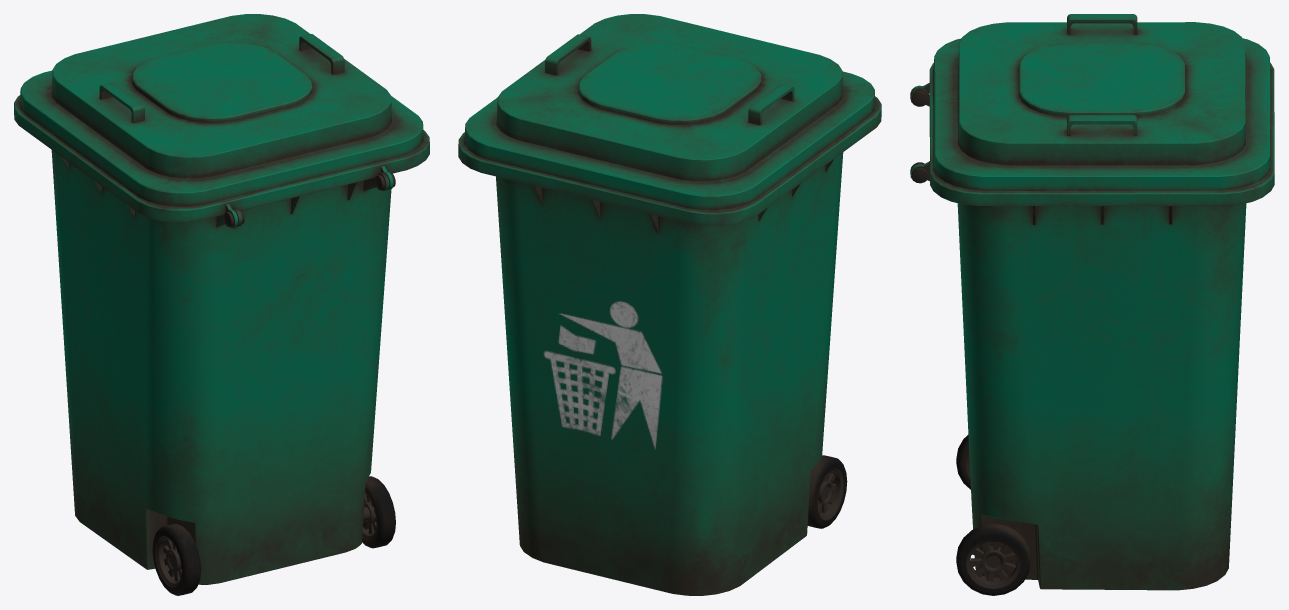
File: dirty_dustbin.glb
3 views of the same model, side by side, from view 1: azimuth 30°, elevation 25°; view 2: azimuth 150°, elevation 25°; view 3: azimuth 270°, elevation 25° (orthographic). The views are drawn at different scales.
Parts seen in each view (by area): view 1: Dustbin_01_Geo; view 2: Dustbin_01_Geo; view 3: Dustbin_01_Geo.
Part boxes in pixels (x1=…): Dustbin_01_Geo: x1=14, y1=14, x2=429, y2=595; Dustbin_01_Geo: x1=458, y1=14, x2=881, y2=595; Dustbin_01_Geo: x1=910, y1=14, x2=1274, y2=595.
Size of the model in its own units: 0.00732 by 0.0112 by 0.00774.
1 material, 1 textured.
